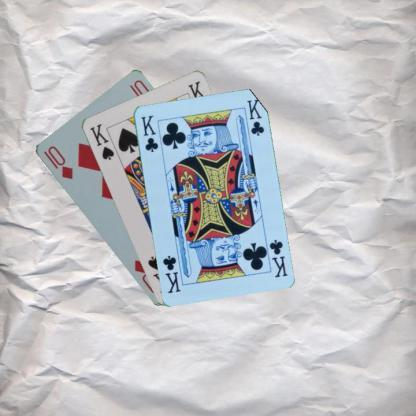10d: (41, 143, 75, 181)
Kc: (266, 236, 288, 278), (138, 112, 160, 153)
Ks: (86, 121, 116, 162)
